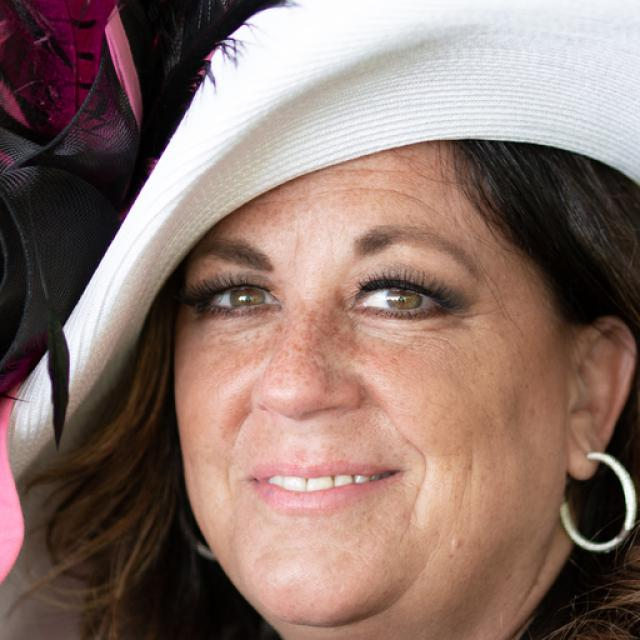Pigmentation: (251, 292, 387, 398), (211, 328, 281, 372)
